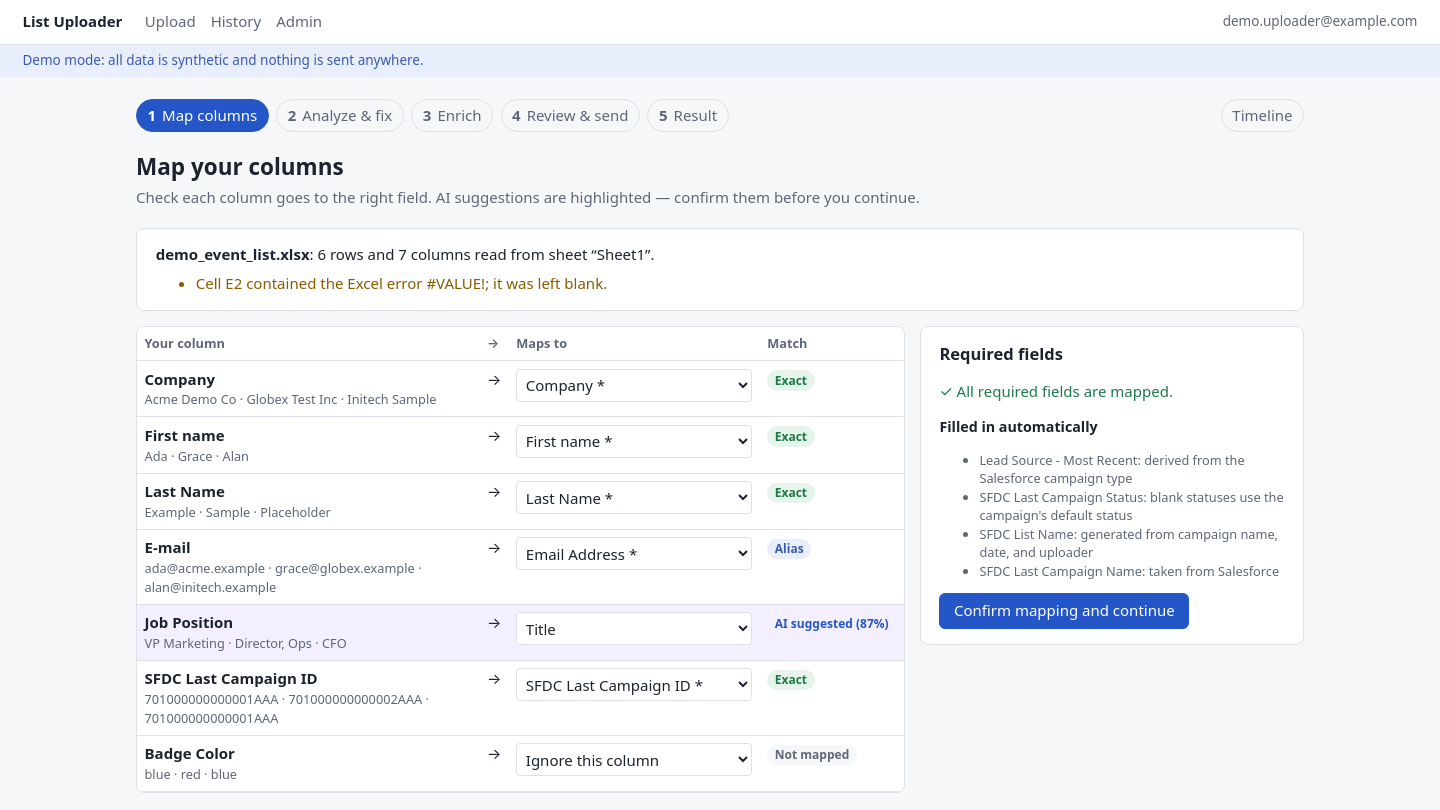
Scenario: mapping screen › marks your own choice, restores the suggestion badge, and keeps one-to-one
Select "Notes additional Information" in the dropdown named "Target for Badge Color" at coordinates (634, 760), box [516,743,752,776]
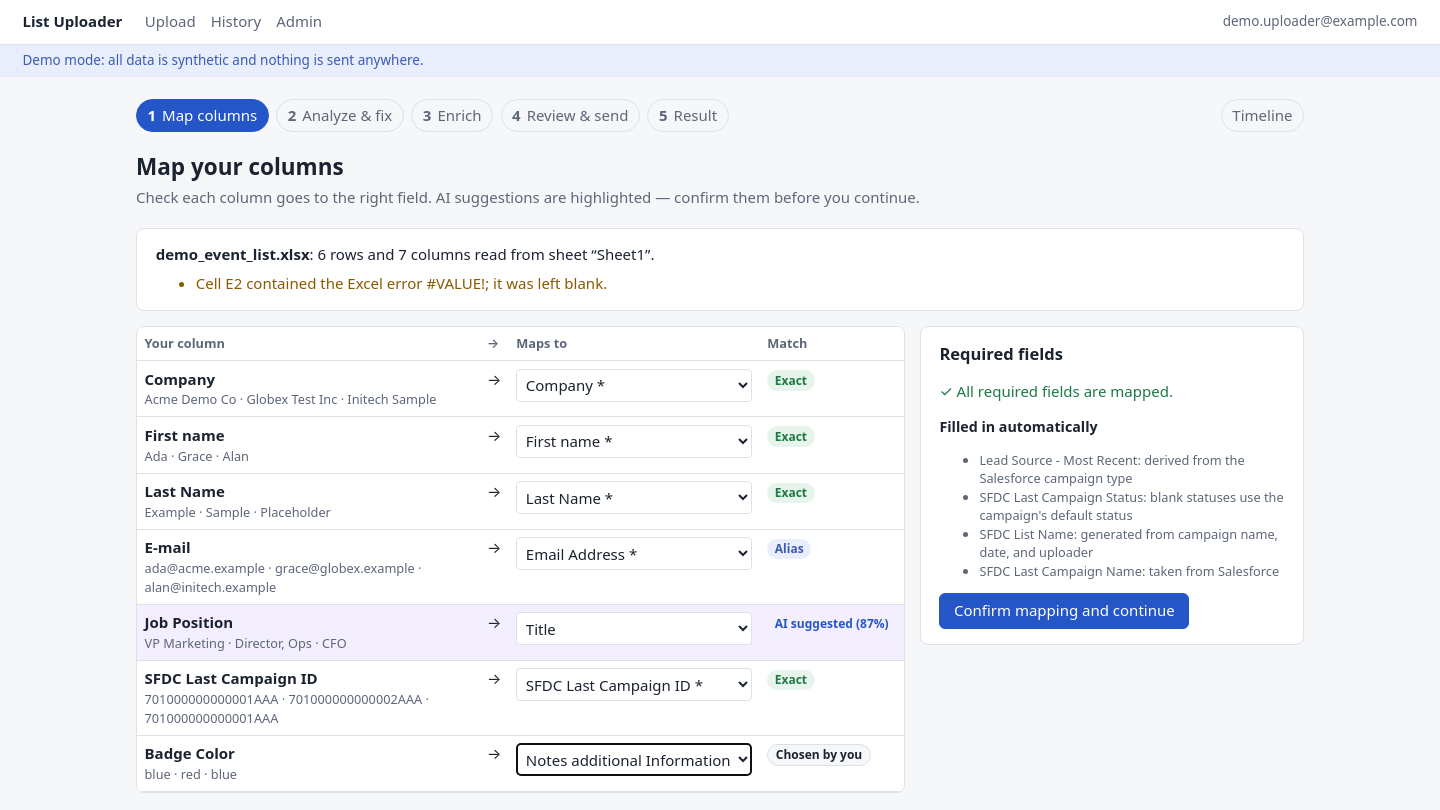
Now the text "Chosen by you" is shown, box [767,744,871,766]
Taking a field from another column clears it there.
Select "Email Address *" in the dropdown named "Target for Badge Color" at coordinates (634, 760), box [516,743,752,776]
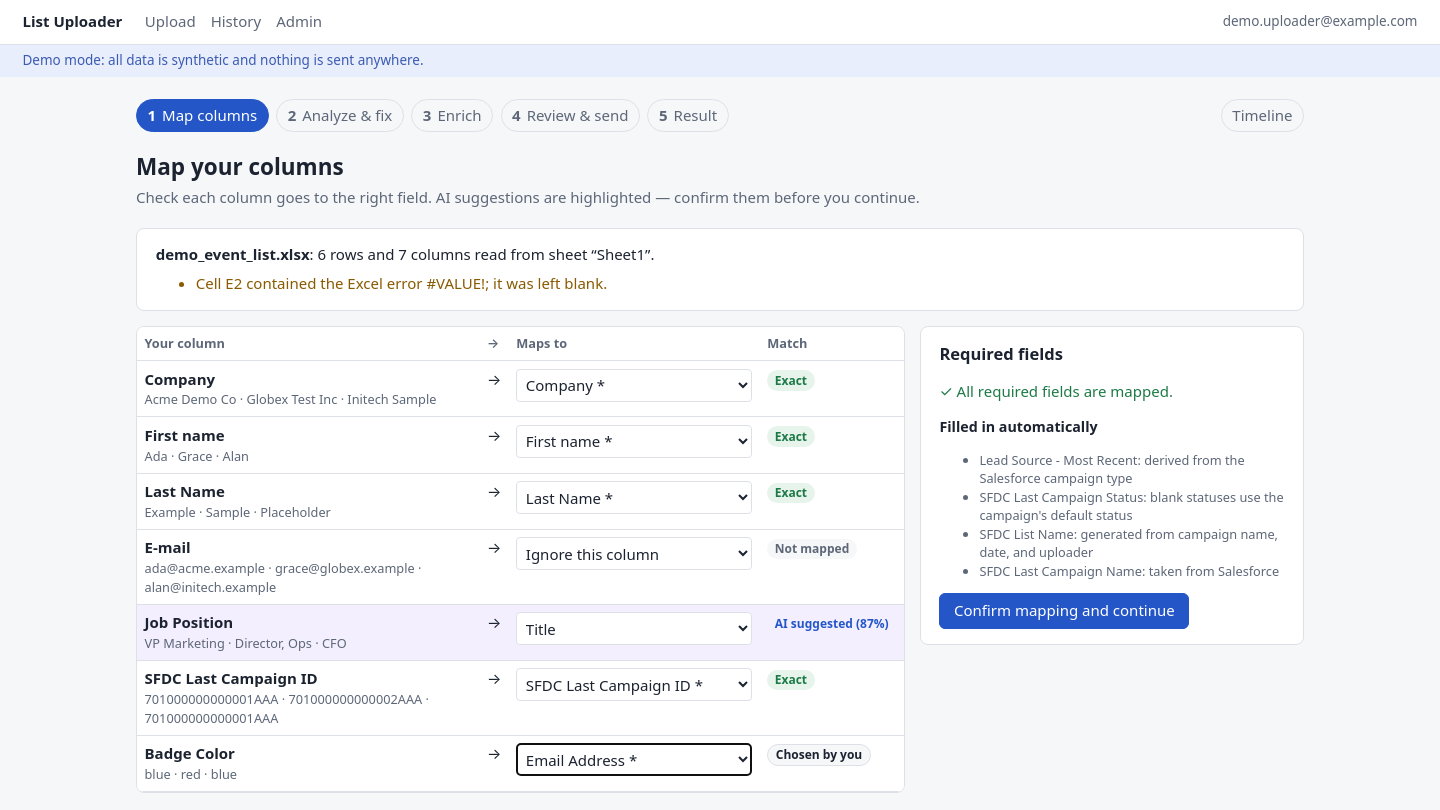
Now the dropdown named "Target for E-mail" shows "Ignore this column"
Putting the suggestion back restores its original badge.
Select "Email Address *" in the dropdown named "Target for E-mail" at coordinates (634, 554), box [516,537,752,570]
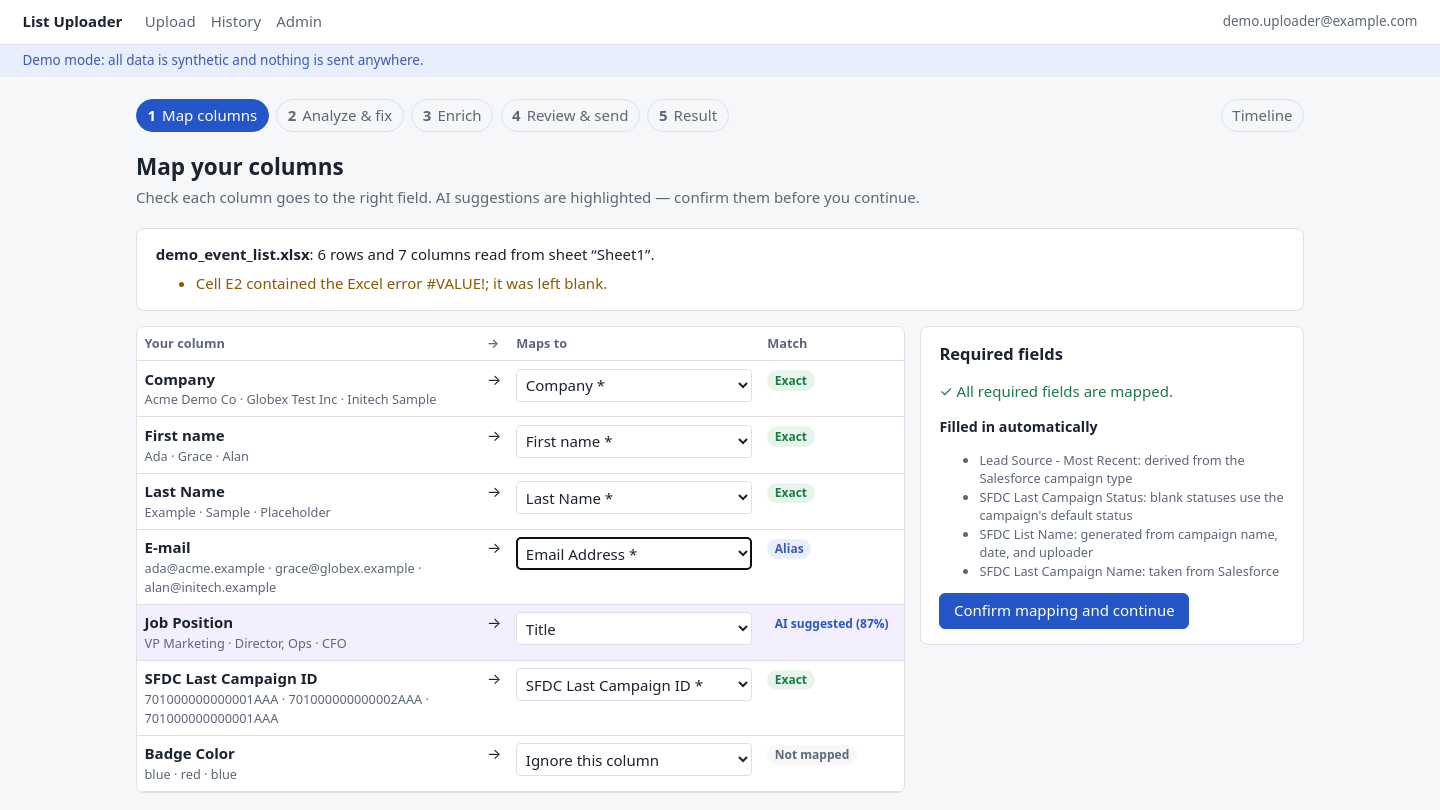
Now the text "Alias" is shown, box [767,539,811,559]
